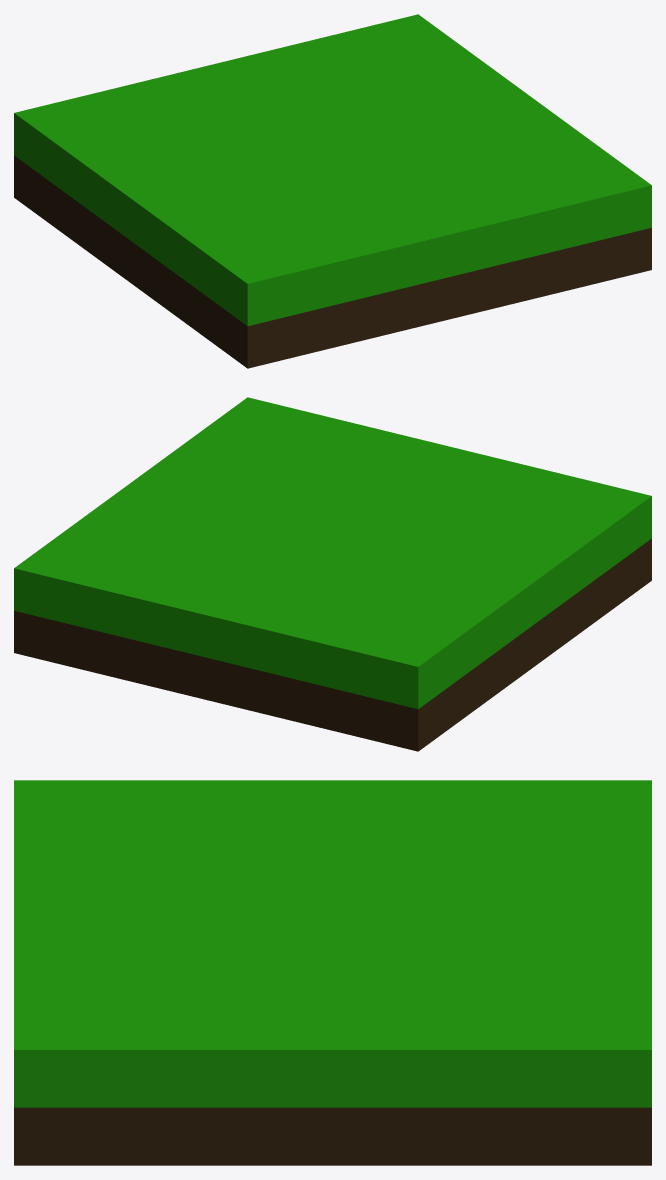
File: tree_parent.dae
The picture shows the model from 3 angles, top to bottom: view 1: azimuth 30°, elevation 25°; view 2: azimuth 150°, elevation 25°; view 3: azimuth 270°, elevation 25°; orthographic projection. The views are drawn at different scales.
Visible parts, largest first — view 1: Cube.005; view 2: Cube.005; view 3: Cube.005.
Boxes of the visible parts, x1,y1,x2,y2 form: Cube.005: (14,14,651,368); Cube.005: (14,397,651,751); Cube.005: (14,780,651,1165).
Bounding box in the file's own units: 0.00999 × 0.01 × 0.002.
